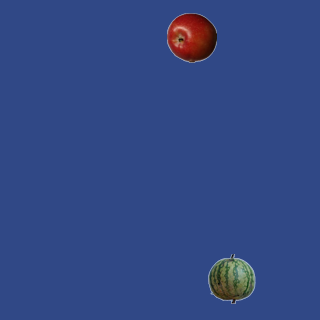Apple Braeburn: (166, 12, 216, 62)
Watermelon: (206, 253, 256, 303)
